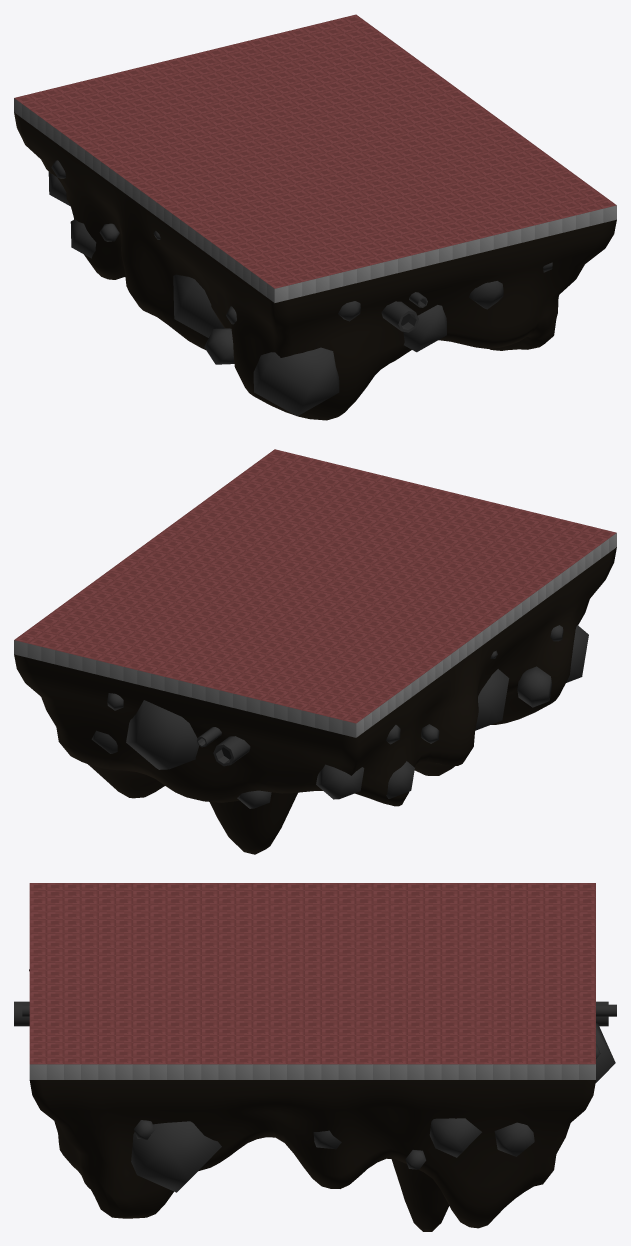
Rendered from Shortened Theatre Landchunk.FBX.
3 renders of one model, top to bottom at view 1: azimuth 30°, elevation 25°; view 2: azimuth 150°, elevation 25°; view 3: azimuth 270°, elevation 25°, orthographic. The views are drawn at different scales.
Visible parts, largest first — view 1: Theatre Land Chunk, Rock008, Rock007, Rock022, Rock009, Pipe003, Rock023, Rock005; view 2: Theatre Land Chunk, Rock018, Rock007, Rock006, Rock009, Pipe001, Rock008, Rock005; view 3: Theatre Land Chunk, Rock013, Rock017, Rock011, Rock018.
Part boxes in pixels (box(x1,y1,x2,y2)): Theatre Land Chunk: box(14, 14, 616, 420); Rock008: box(253, 347, 339, 416); Rock007: box(173, 274, 224, 337); Rock022: box(403, 305, 446, 352); Rock009: box(204, 328, 234, 364); Pipe003: box(381, 301, 418, 332); Rock023: box(469, 281, 503, 309); Rock005: box(70, 219, 96, 258); Theatre Land Chunk: box(14, 449, 616, 854); Rock018: box(126, 700, 198, 769); Rock007: box(475, 669, 509, 730); Rock006: box(316, 764, 364, 799); Rock009: box(517, 666, 552, 707); Pipe001: box(213, 736, 250, 766); Rock008: box(566, 625, 588, 682); Rock005: box(386, 761, 414, 798); Theatre Land Chunk: box(29, 883, 595, 1231); Rock013: box(131, 1121, 221, 1192); Rock017: box(429, 1118, 481, 1157); Rock011: box(494, 1122, 534, 1156); Rock018: box(595, 1023, 615, 1082).
Bounding box in the file's own units: 25.43 × 16.02 × 35.13.
6 materials, 3 textured.
